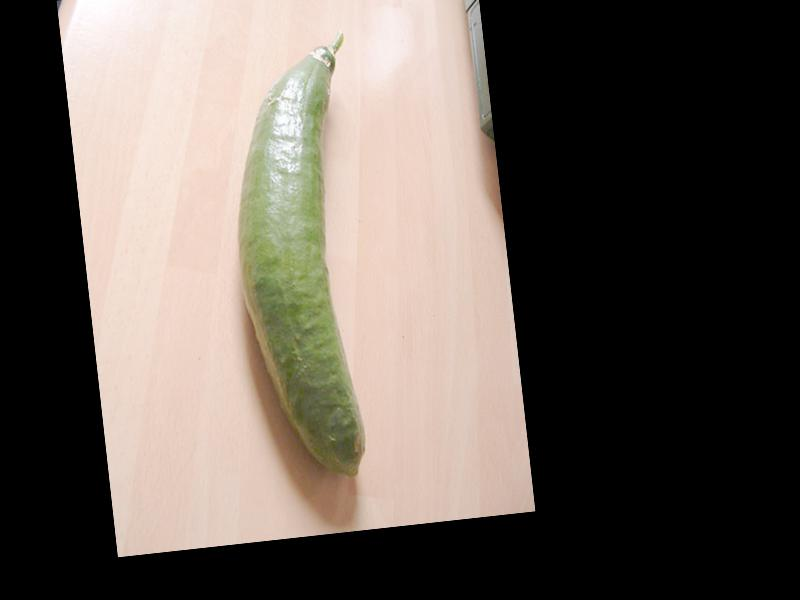Cucumber: (213, 31, 391, 488)
